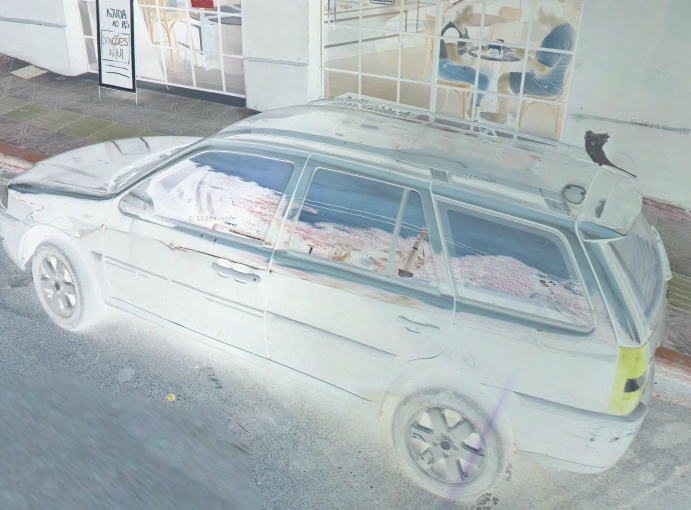car: (1, 100, 668, 502)
